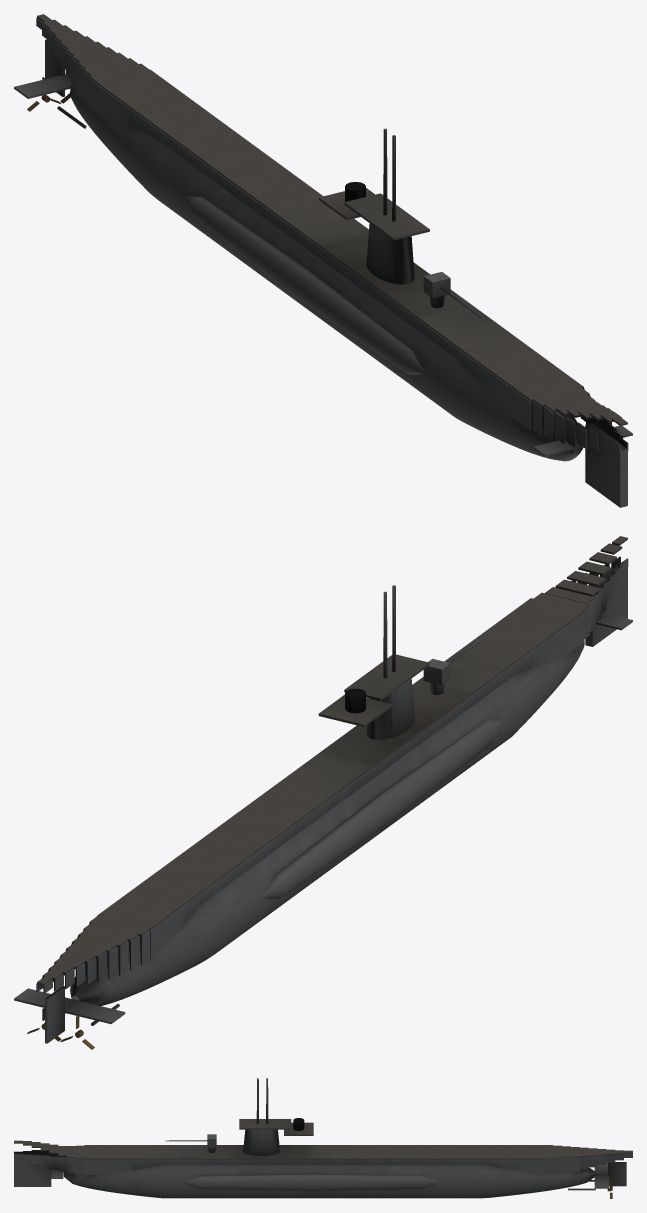
The model's file is model_built.glb.
3 renders of one model, top to bottom at view 1: azimuth 30°, elevation 25°; view 2: azimuth 150°, elevation 25°; view 3: azimuth 270°, elevation 25°, orthographic. The views are drawn at different scales.
Parts seen in each view (by area): view 1: boat; view 2: boat; view 3: boat.
Boxes of the visible parts, <box> form: boat: <box>14,14,632,507</box>; boat: <box>14,536,632,1049</box>; boat: <box>14,1078,632,1198</box>.
Size of the model in its own units: 6.52 by 13.95 by 66.52.
1 material, 1 textured.
